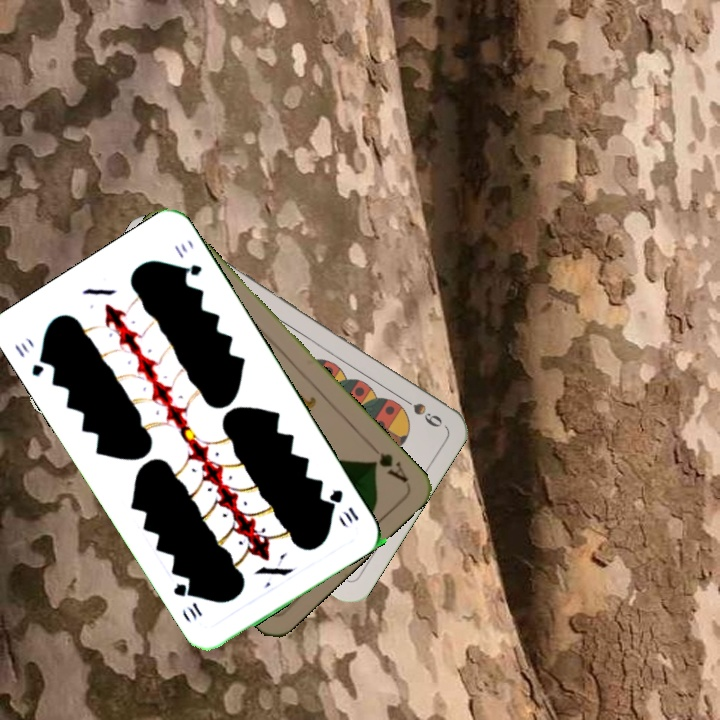G10: (10, 338, 52, 379), (325, 485, 362, 531)
GA: (366, 438, 411, 486)
S9: (393, 390, 446, 430)
